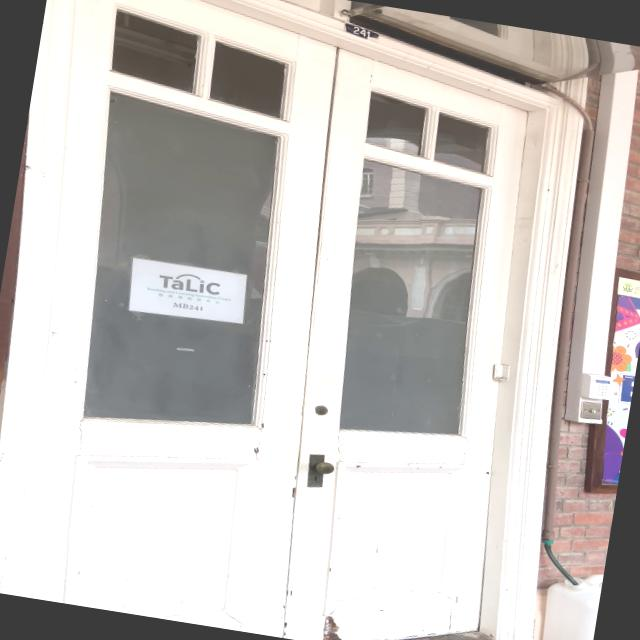room241: (339, 18, 384, 46)
